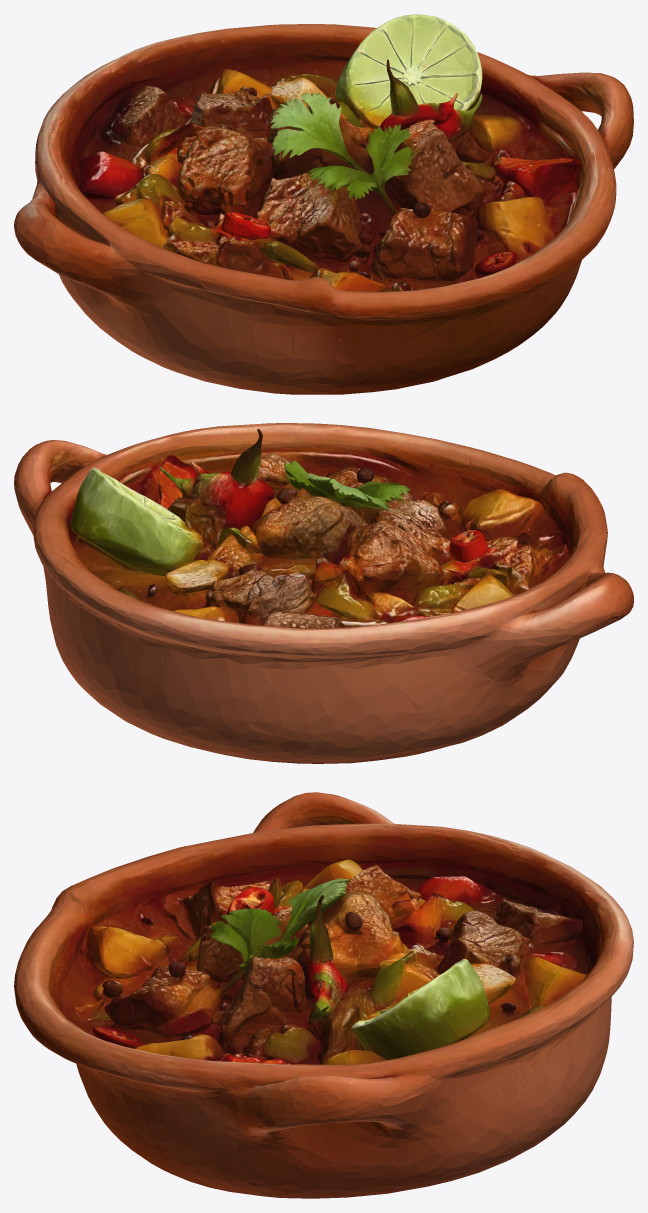
The model's file is chivo.glb.
The picture shows the model from 3 angles, top to bottom: view 1: azimuth 30°, elevation 25°; view 2: azimuth 150°, elevation 25°; view 3: azimuth 270°, elevation 25°; orthographic projection. The views are drawn at different scales.
Parts seen in each view (by area): view 1: geometry_0; view 2: geometry_0; view 3: geometry_0.
Part boxes in pixels (<box>): geometry_0: <box>14,14,633,394</box>; geometry_0: <box>14,423,633,763</box>; geometry_0: <box>14,792,633,1198</box>.
Bounding box in the file's own units: 0.1999 × 0.0793 × 0.1725.
1 material, 1 textured.
